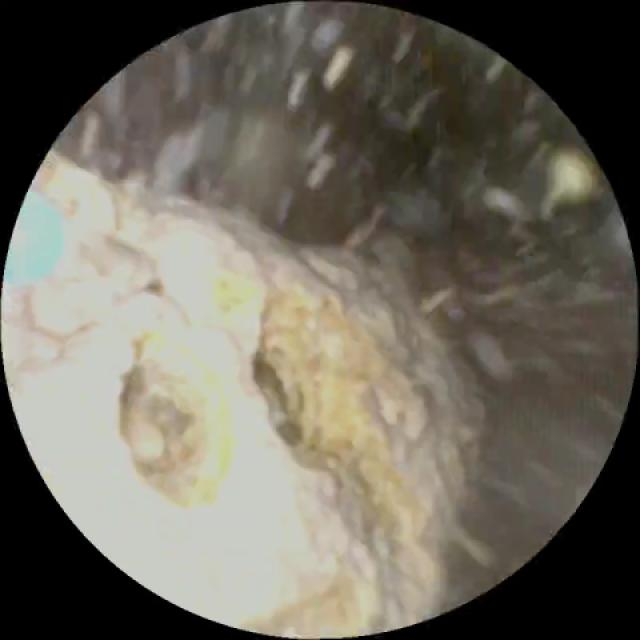fiber: (11, 194, 67, 275)
stone: (14, 156, 487, 632)
